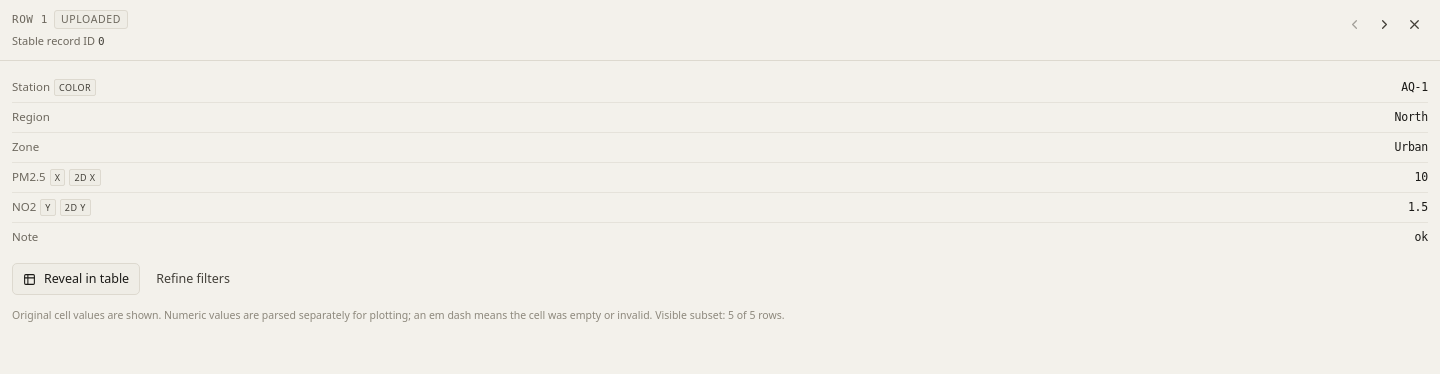
Test: RecordPanel › moves to the next visible record
Click the button named "Select next visible record" at (1384, 24), box [1370,10,1398,38]
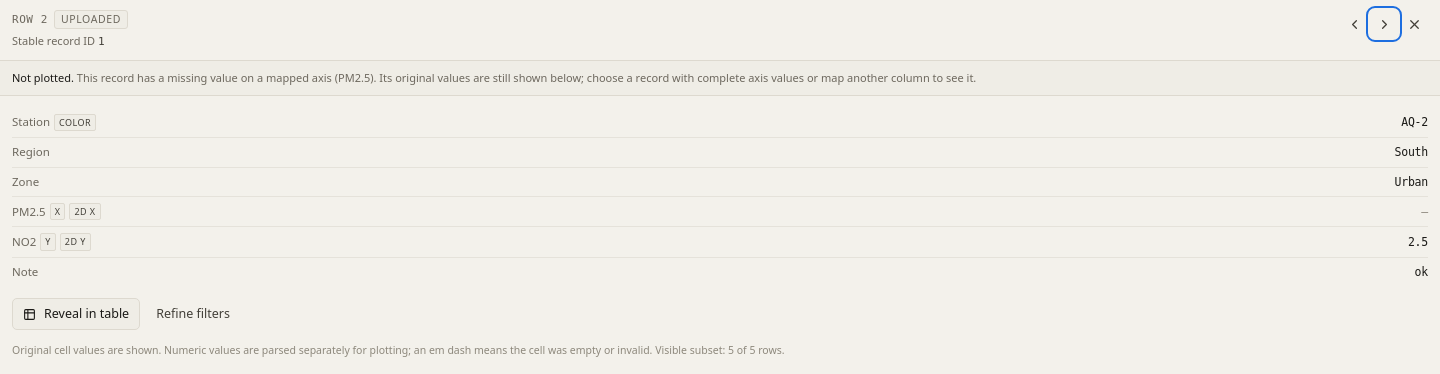
Now the text "Row 2" is shown, box [12,12,48,28]
